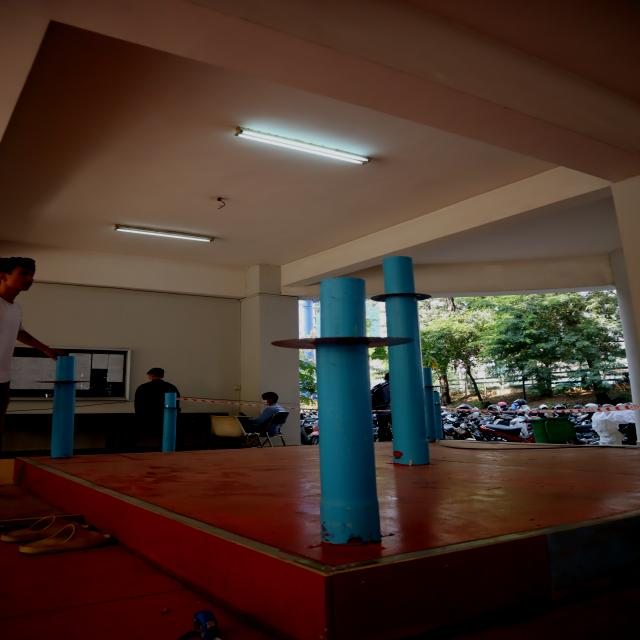pole: (266, 273, 400, 405), (37, 349, 96, 412), (374, 249, 432, 307), (150, 390, 188, 420)
